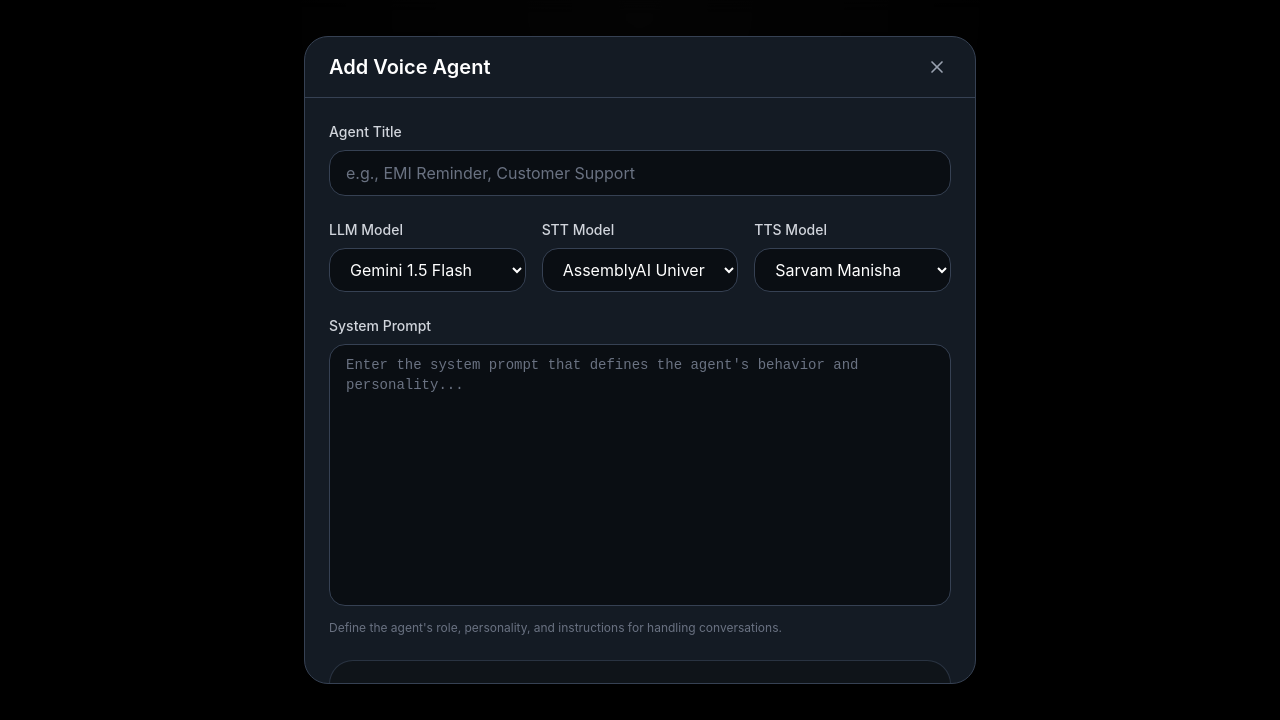
Test case: AgentModal › Loading State › should disable submit button during loading
In the field with placeholder "e.g., EMI Reminder, Customer Support": (640, 173) left=329, top=150, right=951, bottom=196, type "Test Agent"
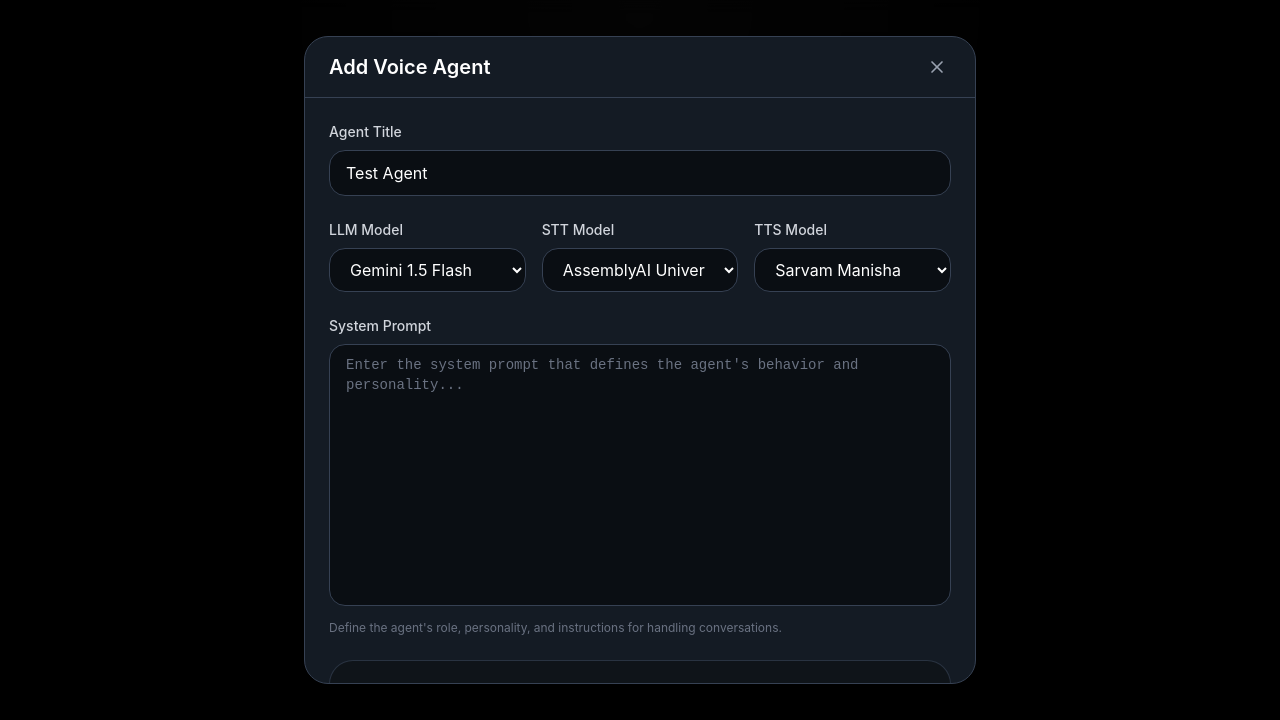
Replace the text in the text box with placeholder "Enter the system prompt that defines the agent's behavior" with "Test prompt": (640, 475) left=329, top=344, right=951, bottom=606
(page scrolled)
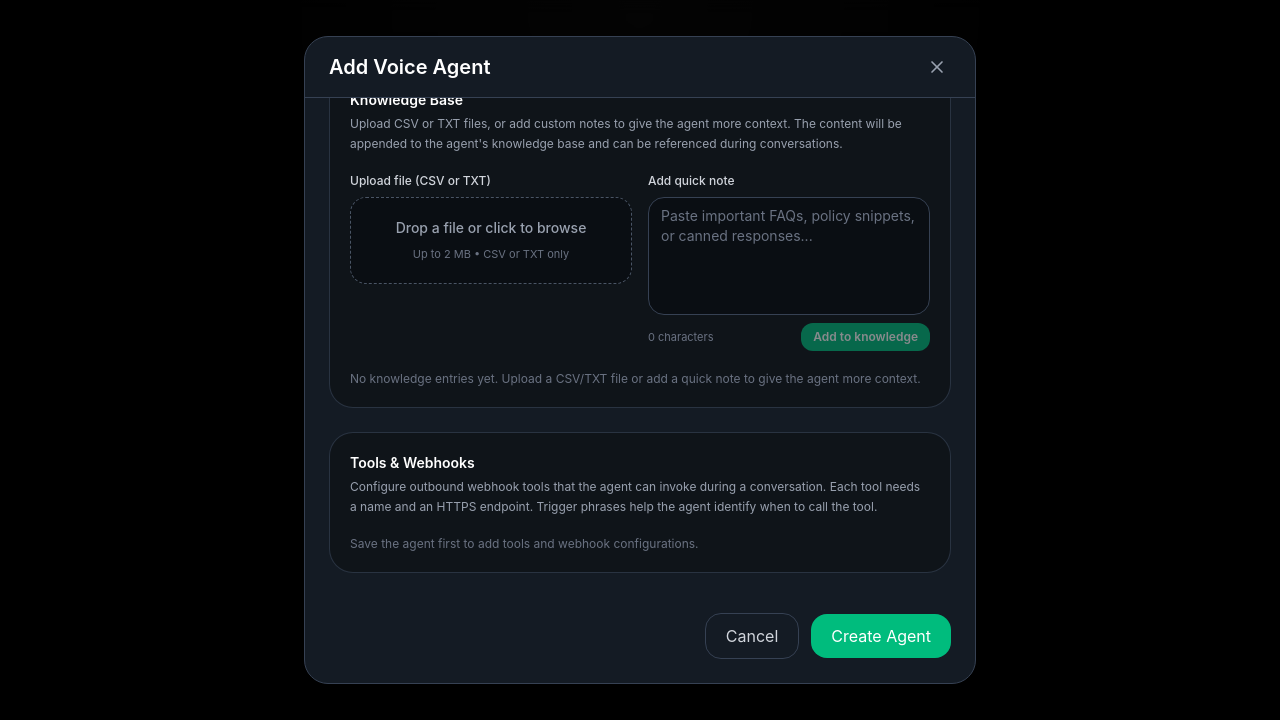
Click the button "Create Agent": (881, 636) left=811, top=614, right=951, bottom=658
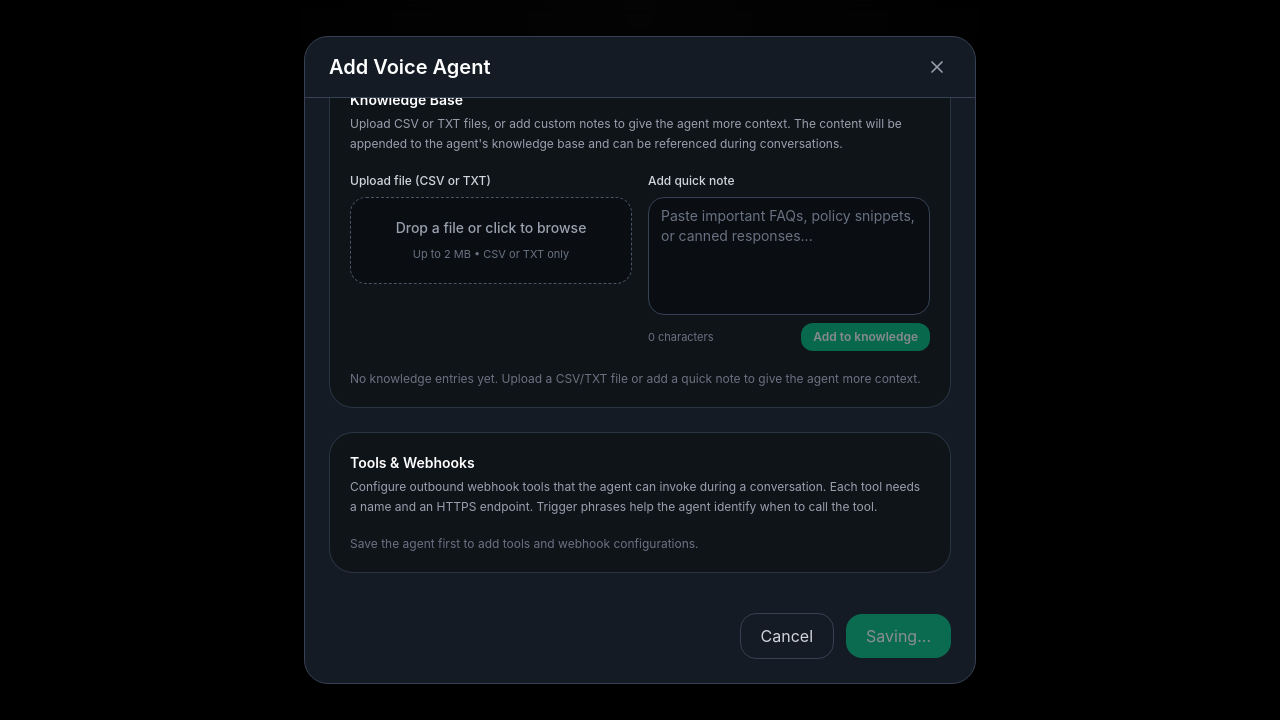
expect the button named "Create Agent" is disabled: met, box left=846, top=614, right=951, bottom=658
